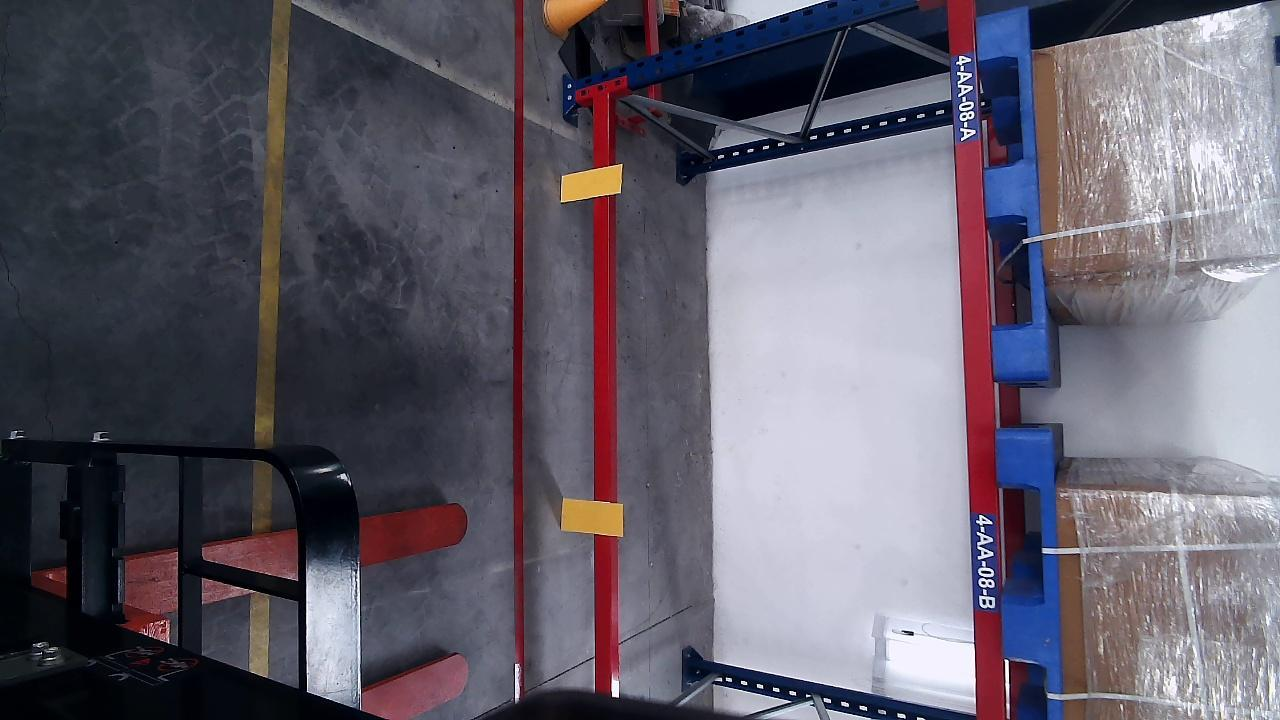h_rack: (946, 2, 1010, 720), (589, 96, 614, 700)
orange_strip: (558, 496, 626, 539), (558, 162, 624, 205)
red_line: (508, 1, 527, 708)
small_pallet: (976, 7, 1048, 374), (997, 439, 1061, 720)
yellow_line: (250, 0, 296, 444)
